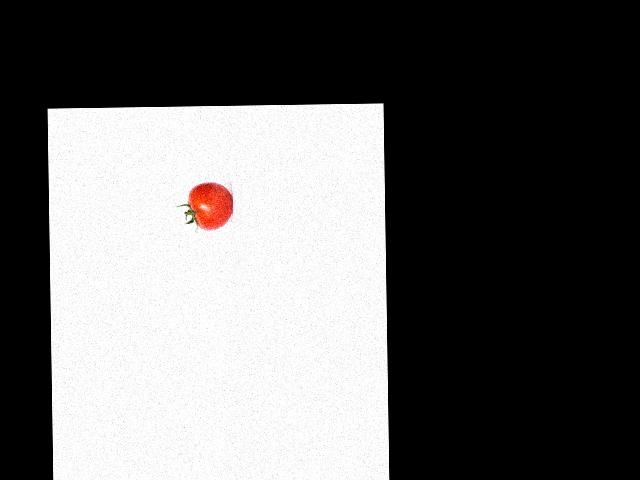tomato: (187, 181, 232, 230)
